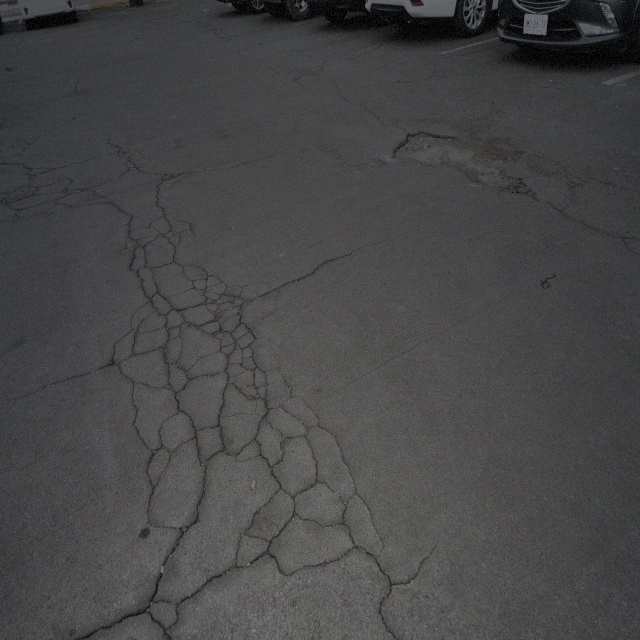pothole: (389, 117, 520, 194)
